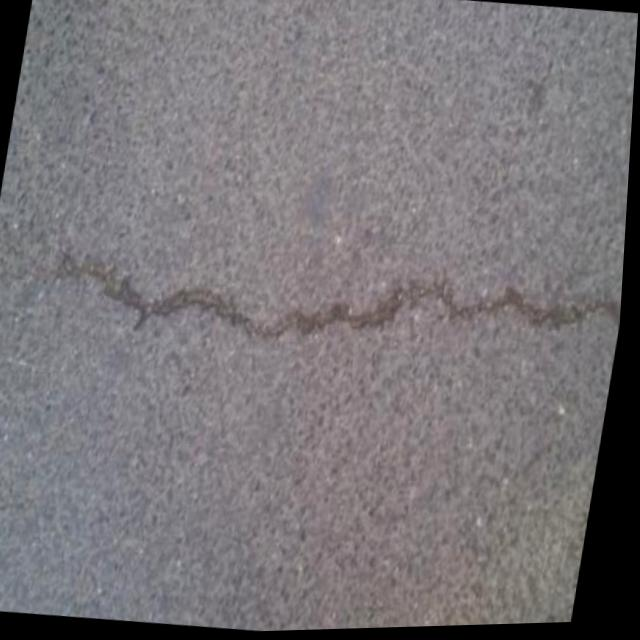Crack: (41, 208, 630, 390)
